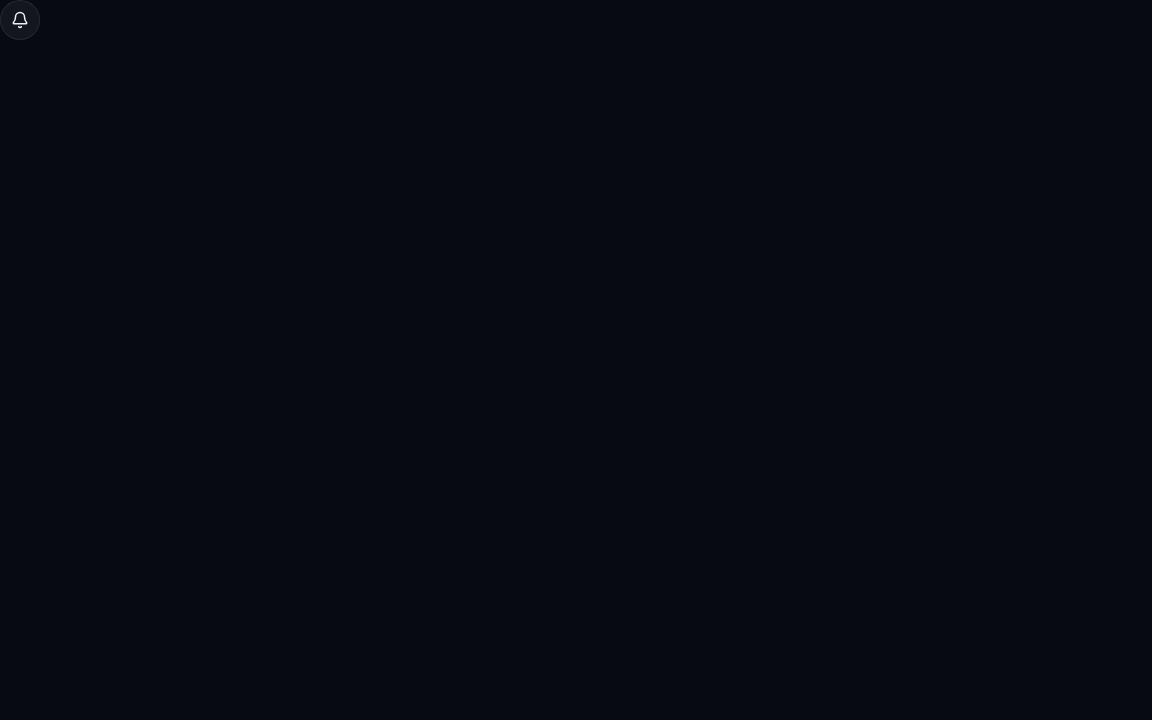
Test case: NotificationBell (centre de notifications) › shows an explicit empty state
The image size is (1152, 720).
Click the button named "Notifications": (20, 20) [0, 0, 40, 40]
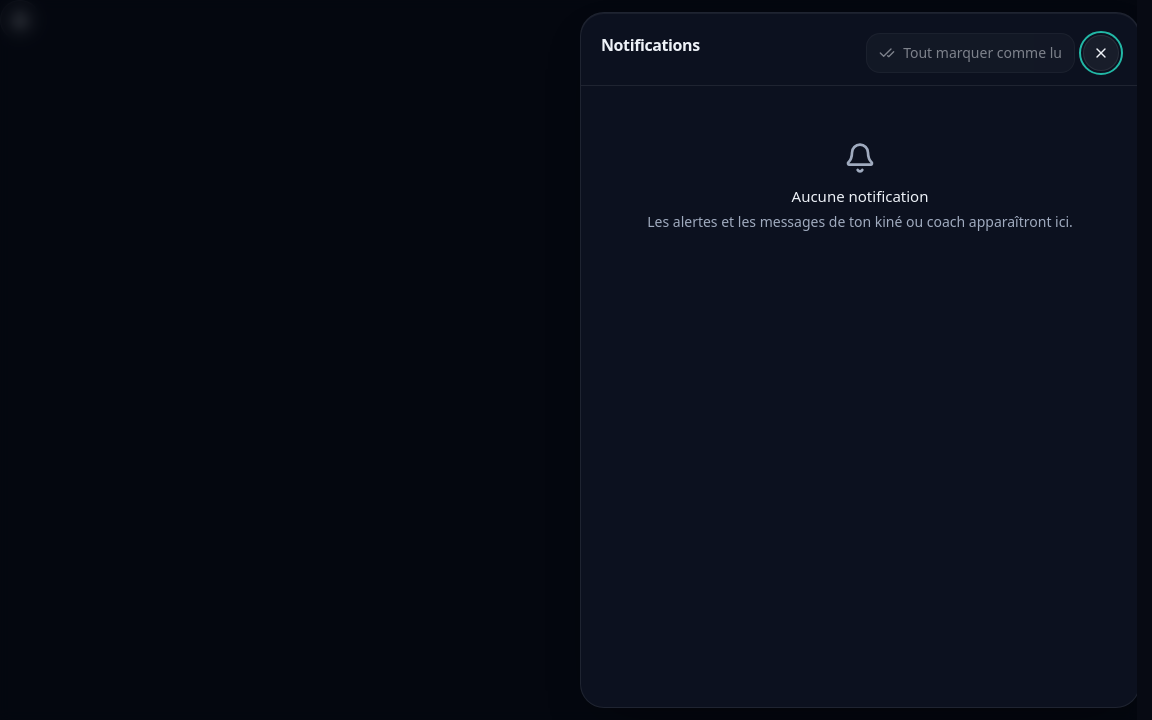
Now the text "Aucune notification" is shown, box [792, 186, 928, 206]
